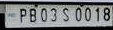character: (39, 7, 47, 22), (102, 6, 110, 21), (28, 8, 36, 22), (74, 6, 81, 22), (84, 6, 91, 22), (19, 8, 26, 22), (62, 7, 69, 21), (94, 6, 99, 22)
